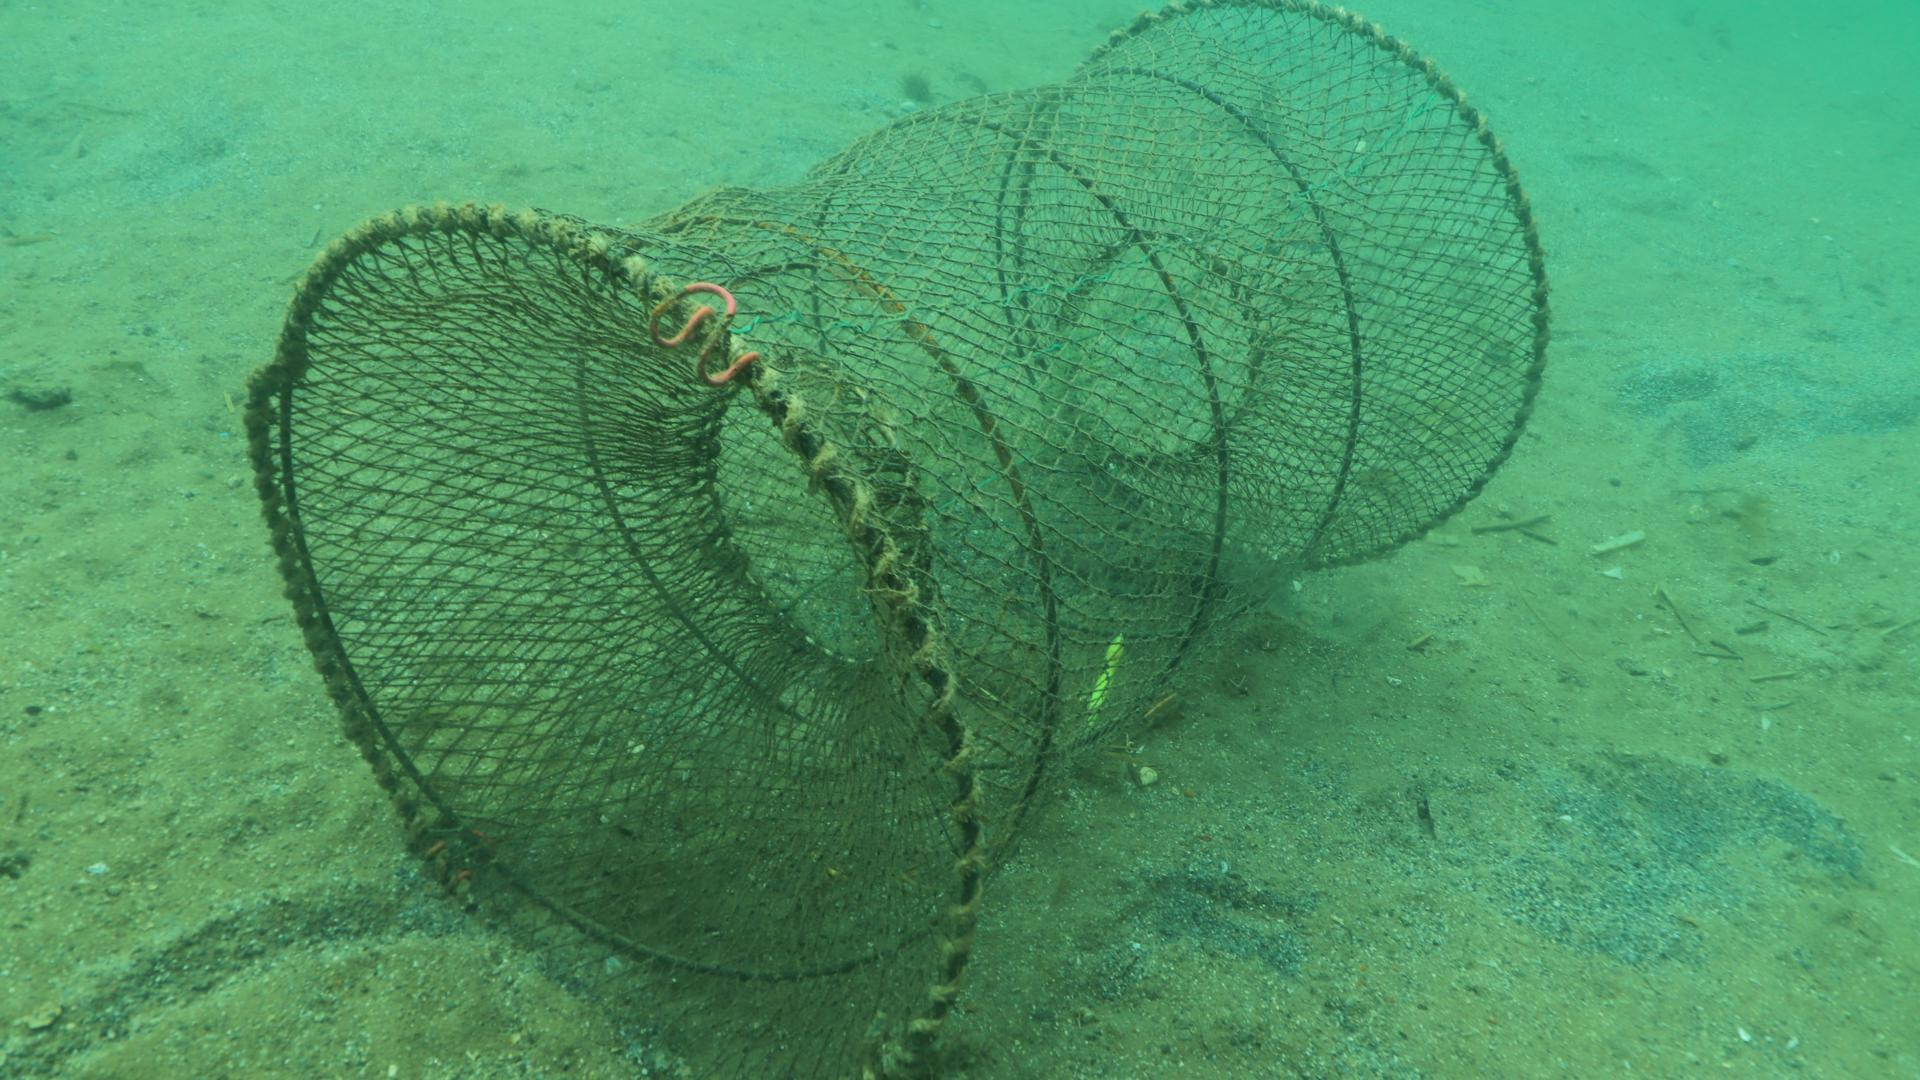spring fish trap: (241, 0, 1553, 1080)
